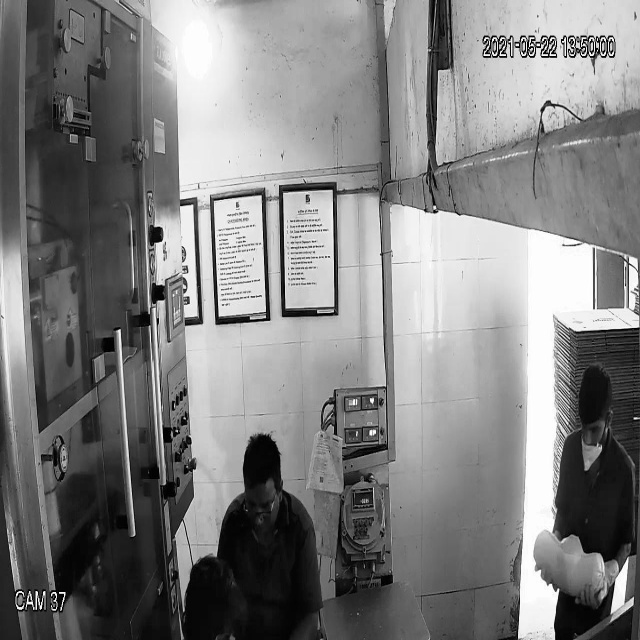Gafas: (240, 493, 280, 526)
